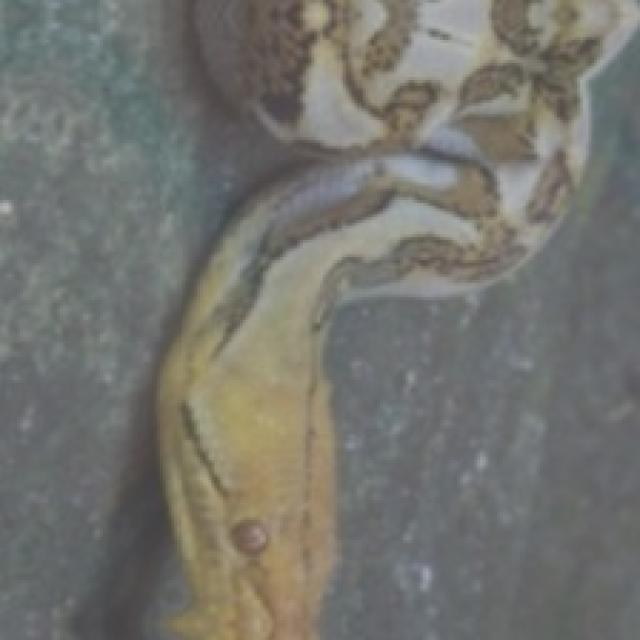reticulated python: (157, 0, 637, 637)
